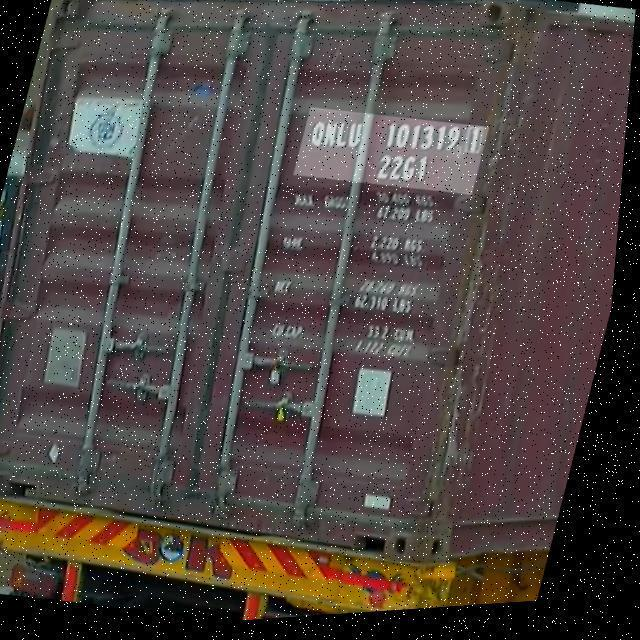container_number_h: (294, 102, 493, 213)
